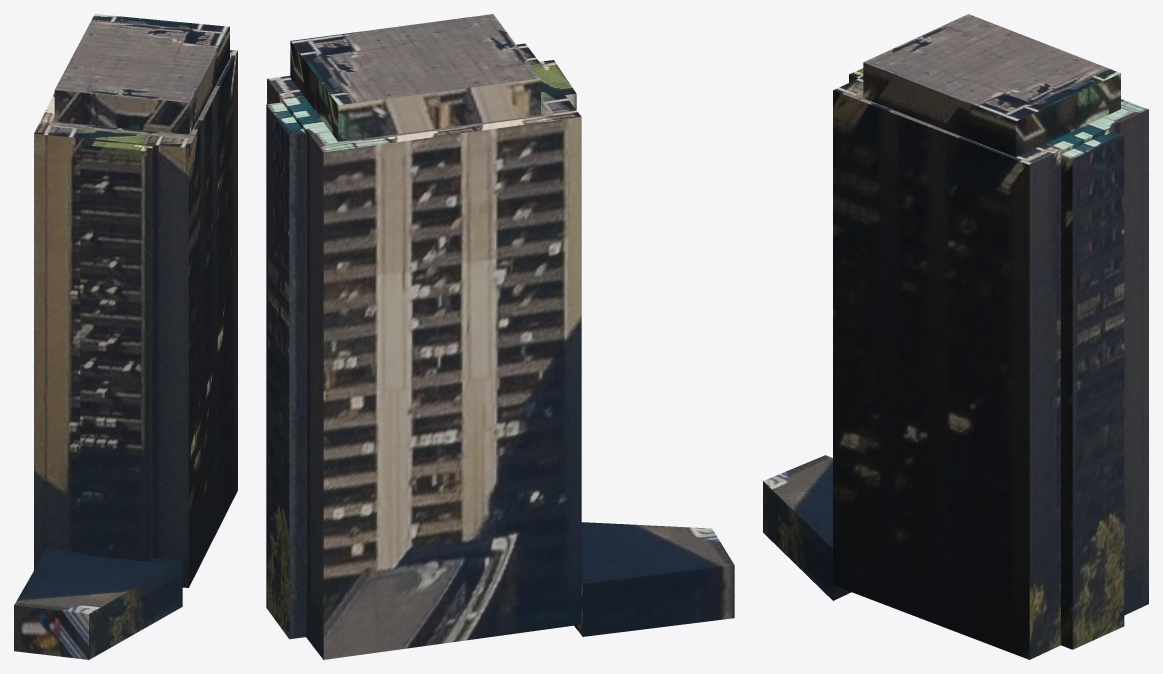
3 renders of one model, left to right at view 1: azimuth 30°, elevation 25°; view 2: azimuth 150°, elevation 25°; view 3: azimuth 270°, elevation 25°, orthographic. The views are drawn at different scales.
Visible parts, largest first — view 1: node_736c00a3_774f_4049_9aa2_a4a174f0e0ea_mesh2, node_736c00a3_774f_4049_9aa2_a4a174f0e0ea_mesh8, node_736c00a3_774f_4049_9aa2_a4a174f0e0ea_mesh3, node_736c00a3_774f_4049_9aa2_a4a174f0e0ea_mesh16, node_736c00a3_774f_4049_9aa2_a4a174f0e0ea_mesh22, node_736c00a3_774f_4049_9aa2_a4a174f0e0ea_mesh17, node_736c00a3_774f_4049_9aa2_a4a174f0e0ea_mesh23, node_736c00a3_774f_4049_9aa2_a4a174f0e0ea_mesh26, node_736c00a3_774f_4049_9aa2_a4a174f0e0ea_mesh1, node_736c00a3_774f_4049_9aa2_a4a174f0e0ea_mesh9, node_736c00a3_774f_4049_9aa2_a4a174f0e0ea_mesh18, node_736c00a3_774f_4049_9aa2_a4a174f0e0ea_mesh7; view 2: node_736c00a3_774f_4049_9aa2_a4a174f0e0ea_mesh5, node_736c00a3_774f_4049_9aa2_a4a174f0e0ea_mesh16, node_736c00a3_774f_4049_9aa2_a4a174f0e0ea_mesh28, node_736c00a3_774f_4049_9aa2_a4a174f0e0ea_mesh4, node_736c00a3_774f_4049_9aa2_a4a174f0e0ea_mesh29, node_736c00a3_774f_4049_9aa2_a4a174f0e0ea_mesh25, node_736c00a3_774f_4049_9aa2_a4a174f0e0ea_mesh20, node_736c00a3_774f_4049_9aa2_a4a174f0e0ea_mesh22, node_736c00a3_774f_4049_9aa2_a4a174f0e0ea_mesh1, node_736c00a3_774f_4049_9aa2_a4a174f0e0ea_mesh19; view 3: node_736c00a3_774f_4049_9aa2_a4a174f0e0ea_mesh3, node_736c00a3_774f_4049_9aa2_a4a174f0e0ea_mesh4, node_736c00a3_774f_4049_9aa2_a4a174f0e0ea_mesh28, node_736c00a3_774f_4049_9aa2_a4a174f0e0ea_mesh16, node_736c00a3_774f_4049_9aa2_a4a174f0e0ea_mesh14, node_736c00a3_774f_4049_9aa2_a4a174f0e0ea_mesh18, node_736c00a3_774f_4049_9aa2_a4a174f0e0ea_mesh19, node_736c00a3_774f_4049_9aa2_a4a174f0e0ea_mesh23, node_736c00a3_774f_4049_9aa2_a4a174f0e0ea_mesh22, node_736c00a3_774f_4049_9aa2_a4a174f0e0ea_mesh1, node_736c00a3_774f_4049_9aa2_a4a174f0e0ea_mesh13.
Boxes of the visible parts, <box> form: node_736c00a3_774f_4049_9aa2_a4a174f0e0ea_mesh2: <box>34,134,188,587</box>; node_736c00a3_774f_4049_9aa2_a4a174f0e0ea_mesh8: <box>80,144,149,561</box>; node_736c00a3_774f_4049_9aa2_a4a174f0e0ea_mesh3: <box>188,51,237,587</box>; node_736c00a3_774f_4049_9aa2_a4a174f0e0ea_mesh16: <box>55,14,229,102</box>; node_736c00a3_774f_4049_9aa2_a4a174f0e0ea_mesh22: <box>14,549,181,613</box>; node_736c00a3_774f_4049_9aa2_a4a174f0e0ea_mesh17: <box>54,90,189,134</box>; node_736c00a3_774f_4049_9aa2_a4a174f0e0ea_mesh23: <box>89,561,182,659</box>; node_736c00a3_774f_4049_9aa2_a4a174f0e0ea_mesh26: <box>14,605,88,659</box>; node_736c00a3_774f_4049_9aa2_a4a174f0e0ea_mesh1: <box>34,50,237,147</box>; node_736c00a3_774f_4049_9aa2_a4a174f0e0ea_mesh9: <box>150,147,153,561</box>; node_736c00a3_774f_4049_9aa2_a4a174f0e0ea_mesh18: <box>189,27,229,134</box>; node_736c00a3_774f_4049_9aa2_a4a174f0e0ea_mesh7: <box>80,140,153,151</box>; node_736c00a3_774f_4049_9aa2_a4a174f0e0ea_mesh5: <box>323,117,581,659</box>; node_736c00a3_774f_4049_9aa2_a4a174f0e0ea_mesh16: <box>291,14,540,105</box>; node_736c00a3_774f_4049_9aa2_a4a174f0e0ea_mesh28: <box>266,105,289,638</box>; node_736c00a3_774f_4049_9aa2_a4a174f0e0ea_mesh4: <box>267,79,323,659</box>; node_736c00a3_774f_4049_9aa2_a4a174f0e0ea_mesh29: <box>289,133,305,639</box>; node_736c00a3_774f_4049_9aa2_a4a174f0e0ea_mesh25: <box>582,565,734,636</box>; node_736c00a3_774f_4049_9aa2_a4a174f0e0ea_mesh20: <box>338,78,540,141</box>; node_736c00a3_774f_4049_9aa2_a4a174f0e0ea_mesh22: <box>581,522,734,583</box>; node_736c00a3_774f_4049_9aa2_a4a174f0e0ea_mesh1: <box>267,43,581,152</box>; node_736c00a3_774f_4049_9aa2_a4a174f0e0ea_mesh19: <box>290,41,338,141</box>; node_736c00a3_774f_4049_9aa2_a4a174f0e0ea_mesh3: <box>833,90,1029,659</box>; node_736c00a3_774f_4049_9aa2_a4a174f0e0ea_mesh4: <box>1029,109,1148,659</box>; node_736c00a3_774f_4049_9aa2_a4a174f0e0ea_mesh28: <box>1072,136,1124,649</box>; node_736c00a3_774f_4049_9aa2_a4a174f0e0ea_mesh16: <box>863,14,1120,121</box>; node_736c00a3_774f_4049_9aa2_a4a174f0e0ea_mesh14: <box>1061,155,1072,649</box>; node_736c00a3_774f_4049_9aa2_a4a174f0e0ea_mesh18: <box>863,62,1015,157</box>; node_736c00a3_774f_4049_9aa2_a4a174f0e0ea_mesh19: <box>1015,73,1120,157</box>; node_736c00a3_774f_4049_9aa2_a4a174f0e0ea_mesh23: <box>763,481,832,600</box>; node_736c00a3_774f_4049_9aa2_a4a174f0e0ea_mesh22: <box>763,455,832,548</box>; node_736c00a3_774f_4049_9aa2_a4a174f0e0ea_mesh1: <box>833,76,1148,164</box>; node_736c00a3_774f_4049_9aa2_a4a174f0e0ea_mesh13: <box>1061,131,1123,158</box>.
Bounding box in the file's own units: 34594 × 32685 × 51414.
2 materials, 2 textured.
